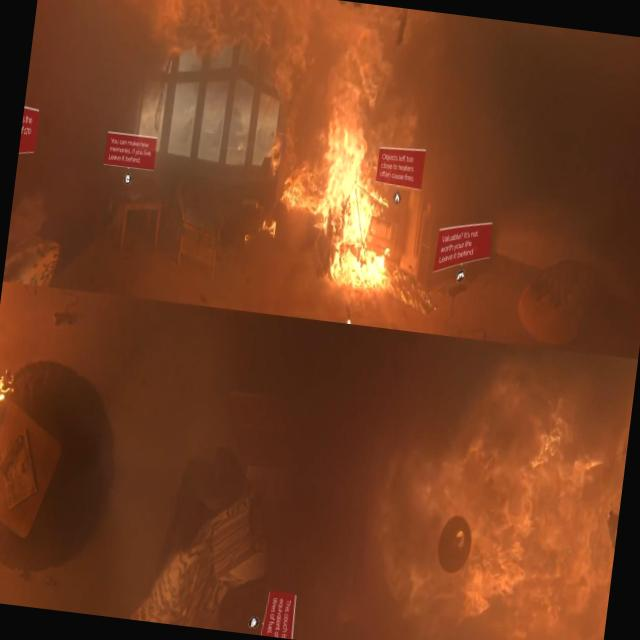fire: (252, 5, 421, 286)
